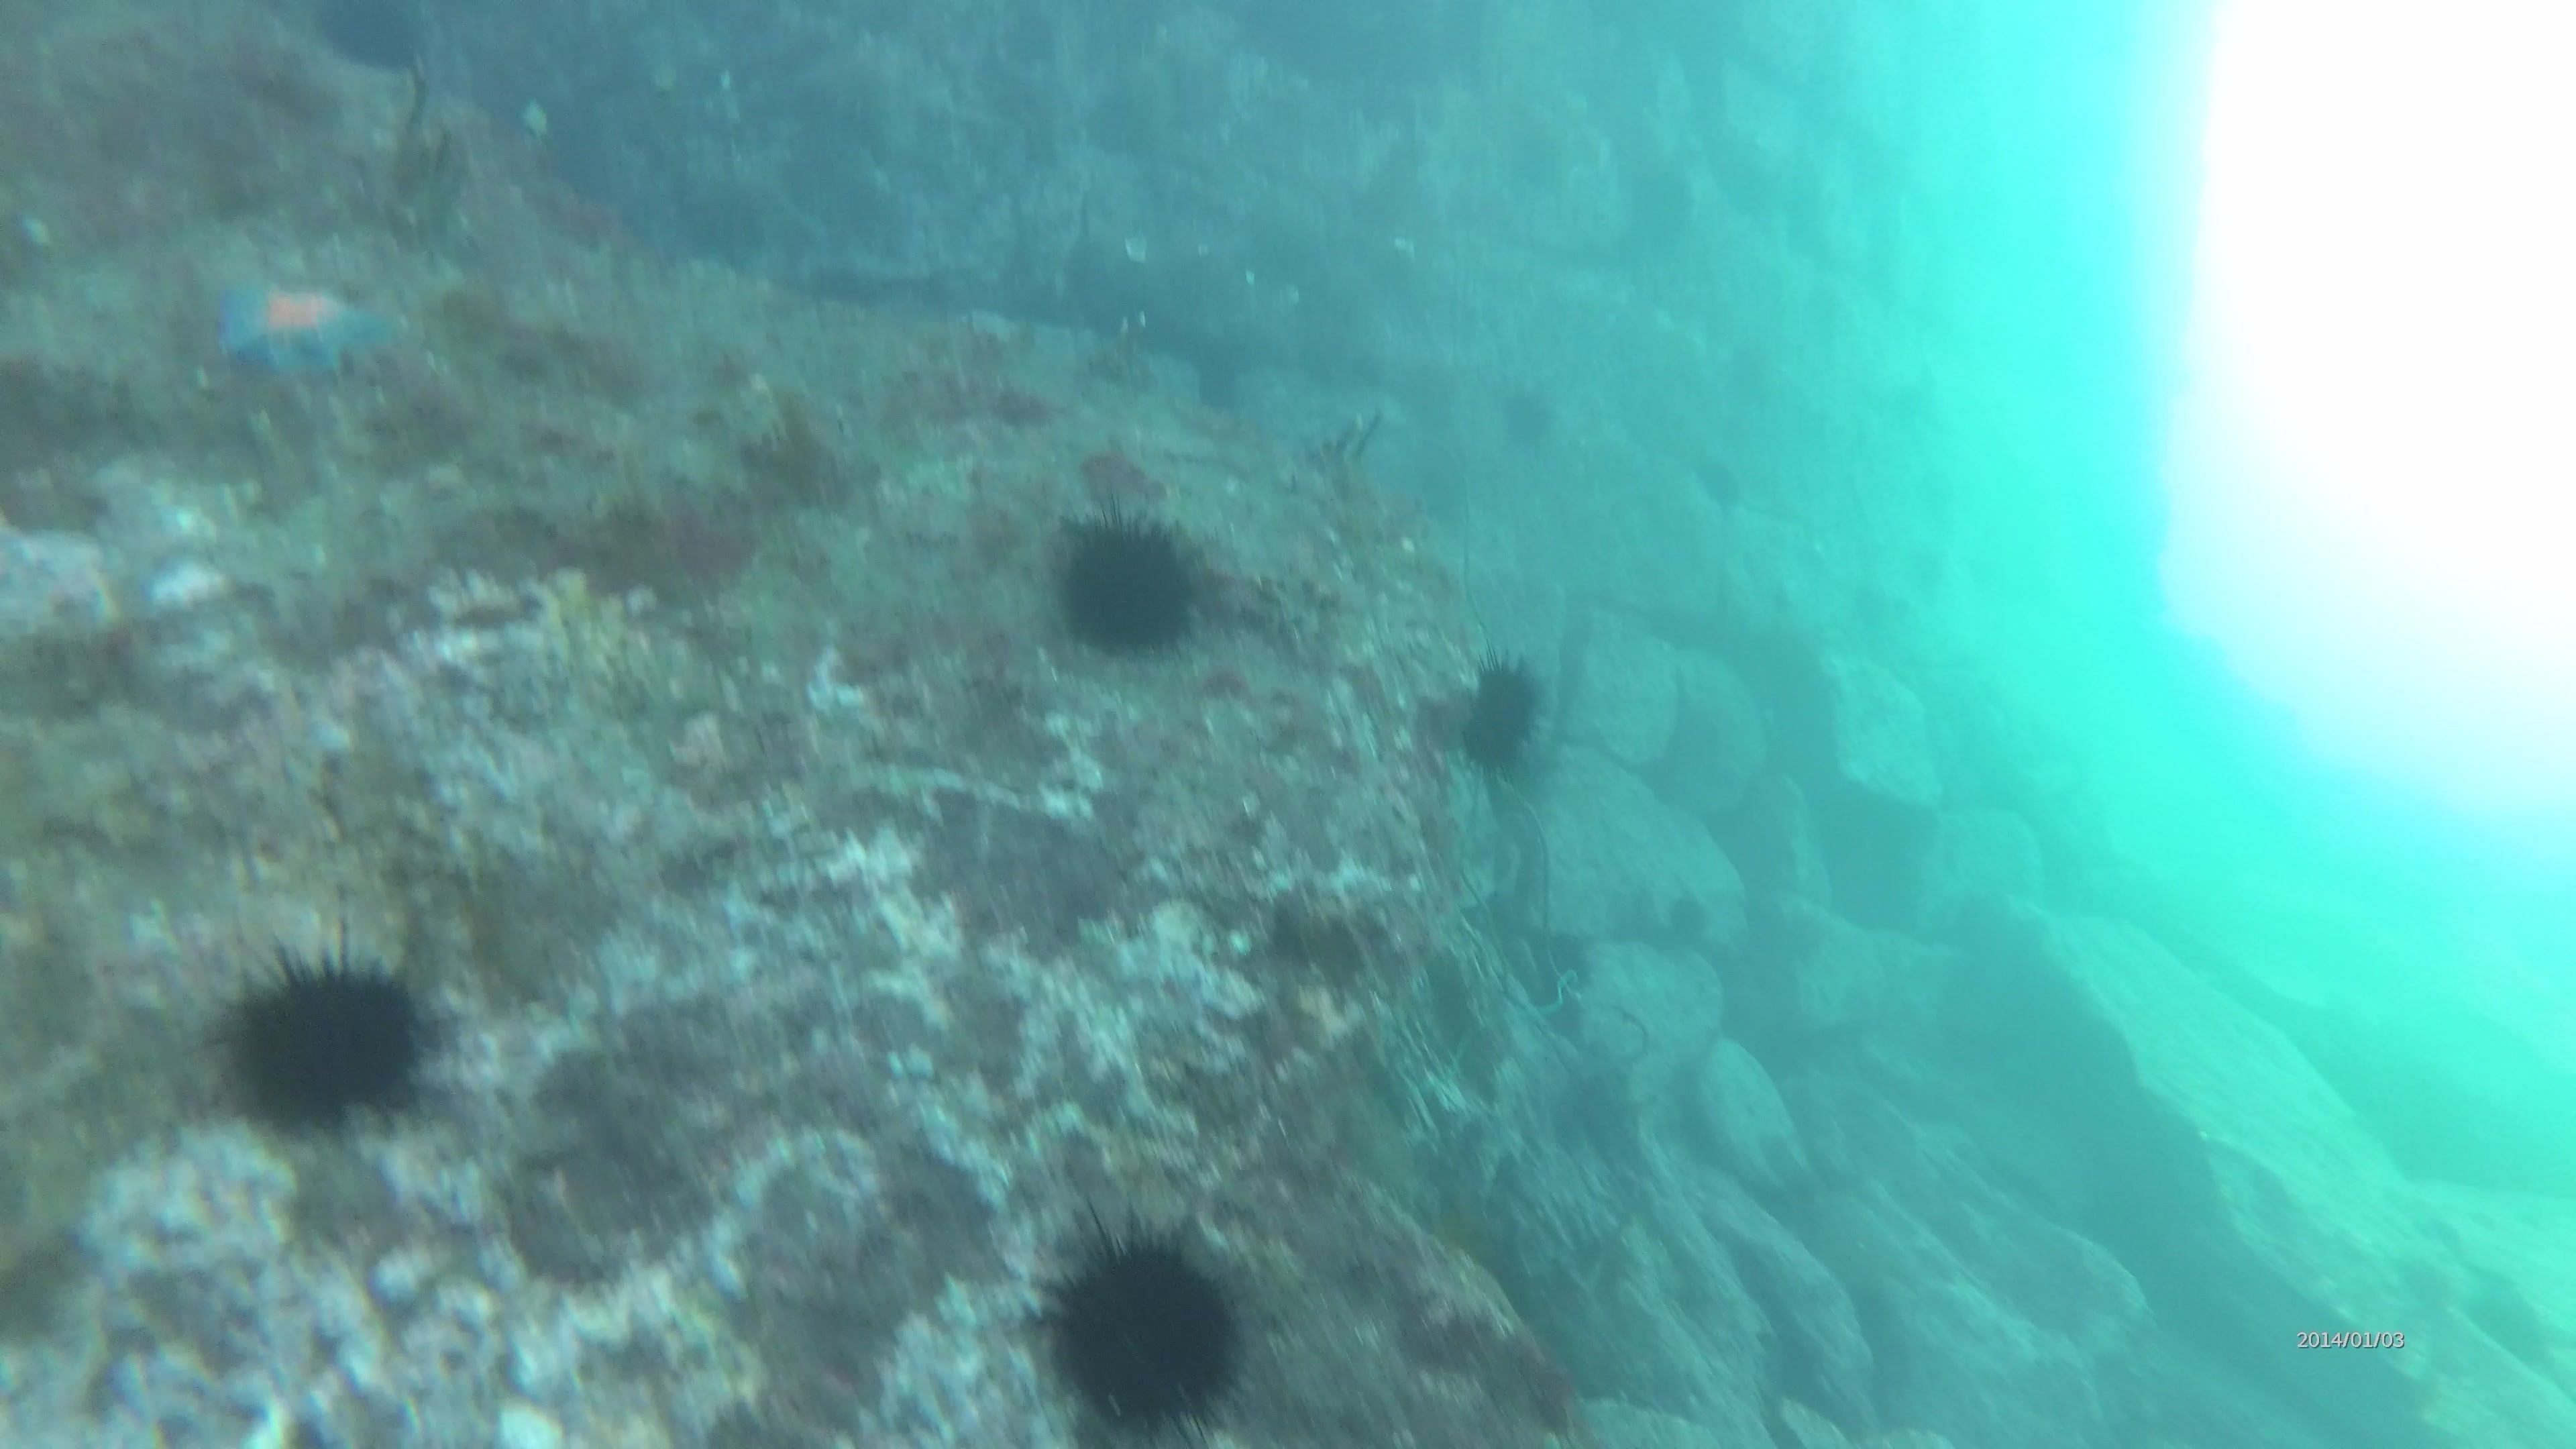echinus: (1023, 1203, 1263, 1440), (203, 929, 451, 1143), (1042, 499, 1215, 665), (1445, 648, 1557, 782), (1491, 375, 1566, 458)
starfish: (207, 262, 402, 389)
